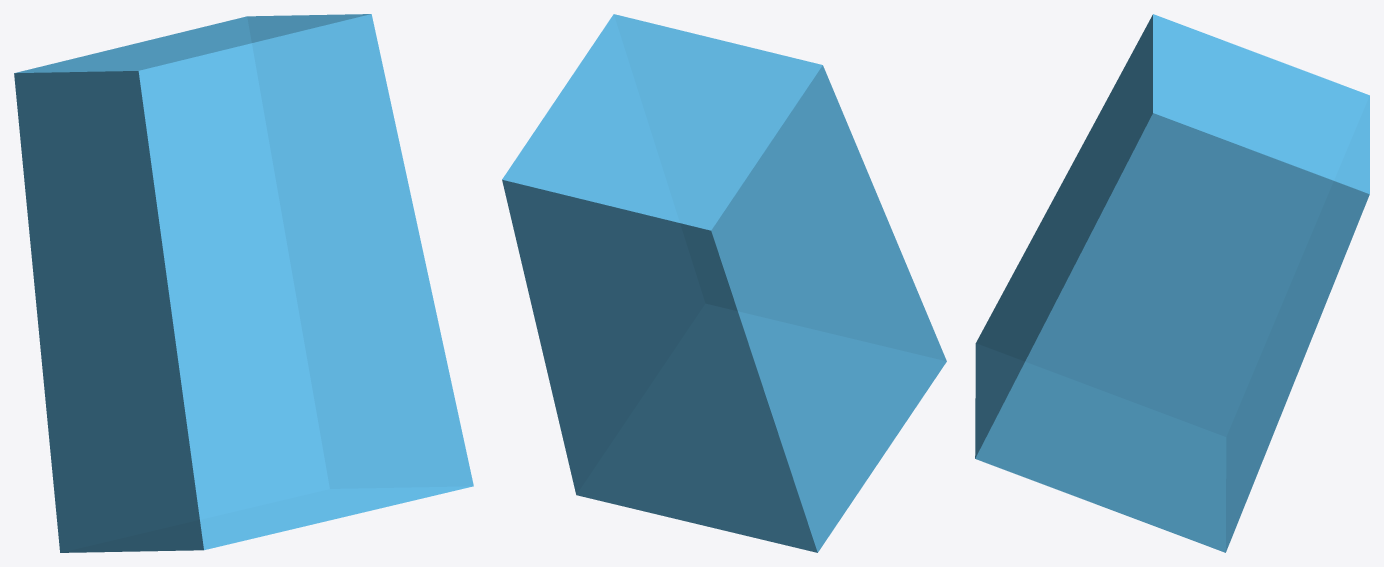
Rendered from Event_420604493_HBrechit_2.fbx.
3 renders of one model, left to right at view 1: azimuth 30°, elevation 25°; view 2: azimuth 150°, elevation 25°; view 3: azimuth 270°, elevation 25°, orthographic. The views are drawn at different scales.
Parts seen in each view (by area): view 1: Model; view 2: Model; view 3: Model.
Part boxes in pixels (x1=…): Model: x1=14, y1=14, x2=473, y2=552; Model: x1=502, y1=14, x2=946, y2=552; Model: x1=975, y1=14, x2=1369, y2=552.
Size of the model in its own units: 0.4637 by 0.8313 by 0.6758.
